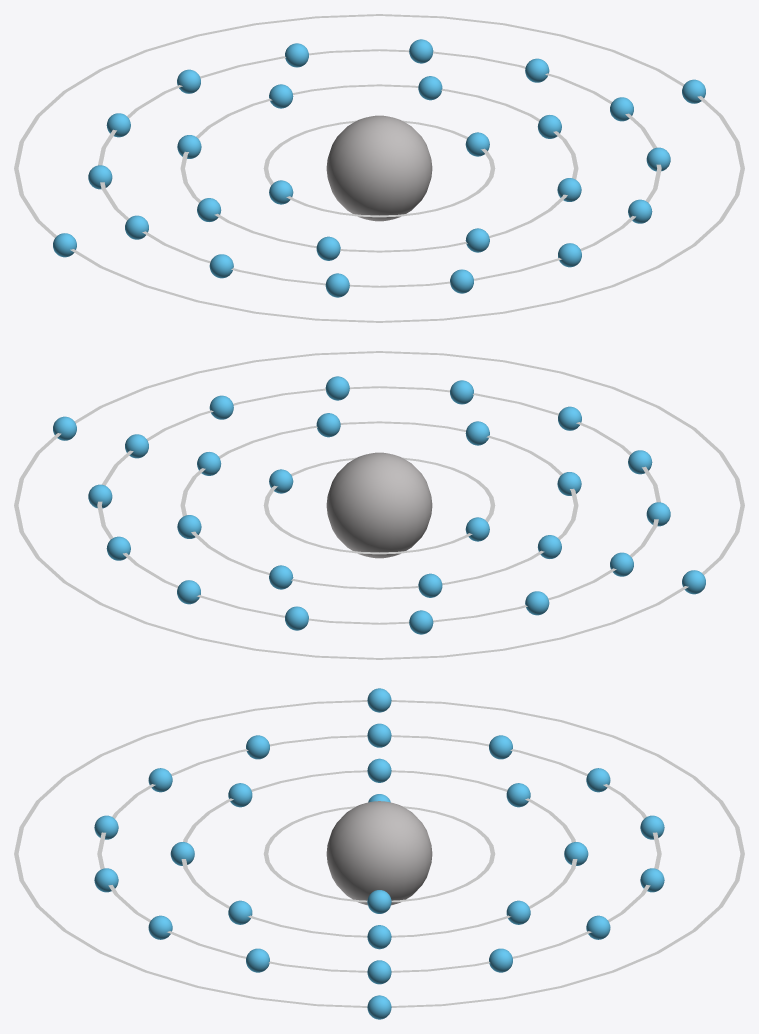
The model's file is iron_atom.glb.
3 renders of one model, top to bottom at view 1: azimuth 30°, elevation 25°; view 2: azimuth 150°, elevation 25°; view 3: azimuth 270°, elevation 25°, orthographic.
Parts seen in each view (by area): view 1: nucleus_node, shell_ring_3, shell_ring_2, shell_ring_1, shell_ring_0; view 2: nucleus_node, shell_ring_3, shell_ring_2, shell_ring_1, shell_ring_0; view 3: nucleus_node, shell_ring_3, shell_ring_2, shell_ring_1, shell_ring_0.
Boxes of the visible parts, left/top/right/bottom form: nucleus_node: left=326, top=115, right=432, bottom=221; shell_ring_3: left=14, top=14, right=744, bottom=322; shell_ring_2: left=98, top=49, right=661, bottom=287; shell_ring_1: left=180, top=84, right=578, bottom=252; shell_ring_0: left=263, top=120, right=495, bottom=217; nucleus_node: left=326, top=452, right=432, bottom=558; shell_ring_3: left=14, top=351, right=744, bottom=659; shell_ring_2: left=97, top=386, right=660, bottom=624; shell_ring_1: left=180, top=421, right=578, bottom=589; shell_ring_0: left=263, top=457, right=495, bottom=554; nucleus_node: left=326, top=801, right=432, bottom=905; shell_ring_3: left=14, top=700, right=744, bottom=1007; shell_ring_2: left=97, top=735, right=661, bottom=972; shell_ring_1: left=181, top=770, right=577, bottom=937; shell_ring_0: left=263, top=806, right=495, bottom=902.
Size of the model in its own units: 4.96 by 0.7 by 4.83.
